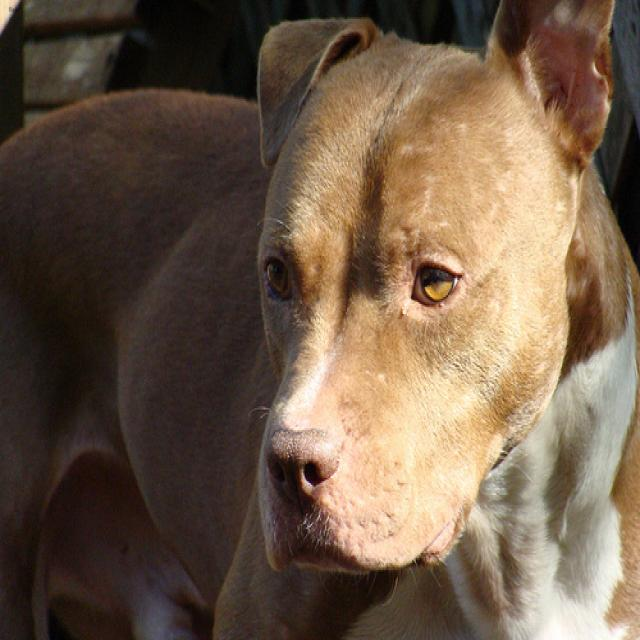dog-american_pit_bull_terrier: (1, 2, 637, 637)
